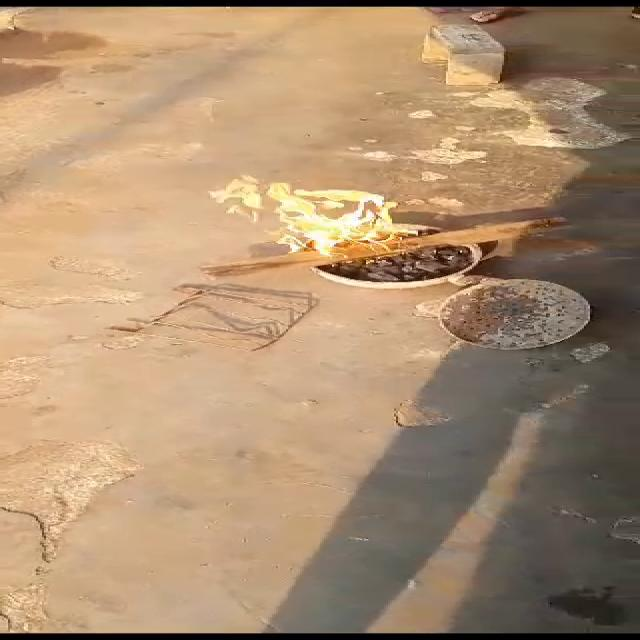Fire: (200, 169, 436, 265)
